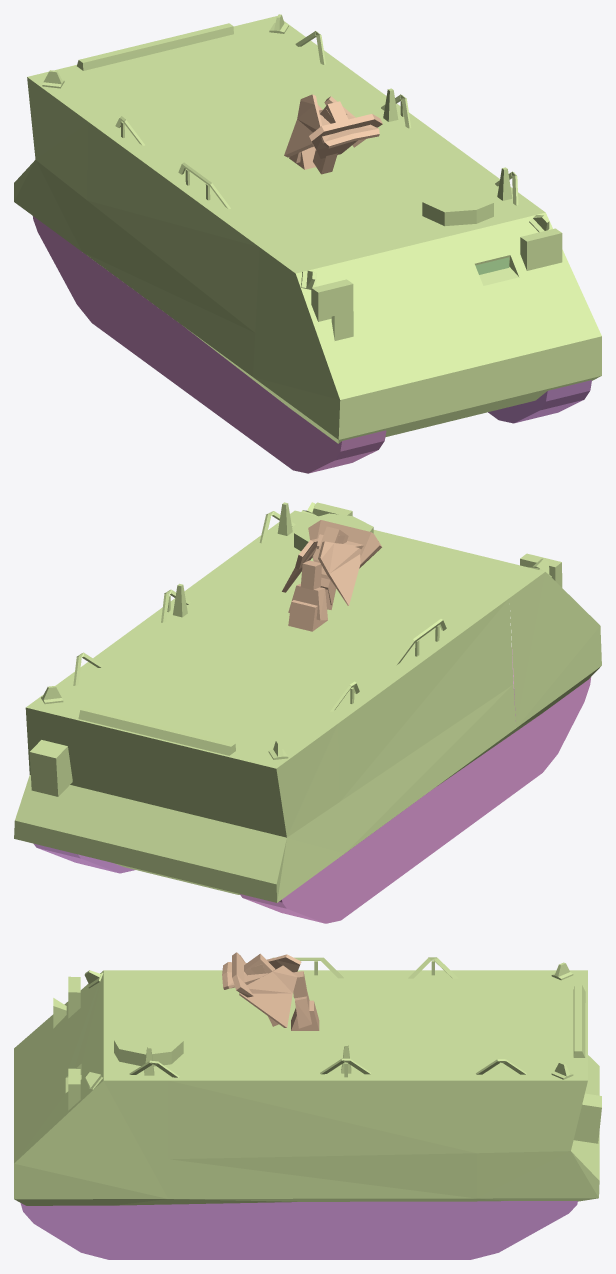
The model's file is land-tracked-leopard-spawn-spw-01.glb.
The picture shows the model from 3 angles, top to bottom: view 1: azimuth 30°, elevation 25°; view 2: azimuth 150°, elevation 25°; view 3: azimuth 270°, elevation 25°; orthographic projection. The views are drawn at different scales.
Visible parts, largest first — view 1: CC_SPW, CC_SPW_01_RotatorCore, CC_SPW_01_Flap_02, CC_SPW_01_Flap_01; view 2: CC_SPW, CC_SPW_01_Flap_02, CC_SPW_01_RotatorCore, CC_SPW_01_Rotator, CC_SPW_01_Base; view 3: CC_SPW, CC_SPW_01_Flap_03, CC_SPW_01_RotatorCore, CC_SPW_01_Rotator, CC_SPW_01_Flap_01, CC_SPW_01_Base.
Boxes of the visible parts, <box> form: CC_SPW: <box>14,14,601,473</box>; CC_SPW_01_RotatorCore: <box>309,101,382,167</box>; CC_SPW_01_Flap_02: <box>284,94,322,157</box>; CC_SPW_01_Flap_01: <box>320,114,379,148</box>; CC_SPW: <box>14,502,601,923</box>; CC_SPW_01_Flap_02: <box>318,541,360,605</box>; CC_SPW_01_RotatorCore: <box>308,520,381,604</box>; CC_SPW_01_Rotator: <box>288,560,327,620</box>; CC_SPW_01_Base: <box>288,600,327,631</box>; CC_SPW: <box>14,957,601,1259</box>; CC_SPW_01_Flap_03: <box>239,965,297,1027</box>; CC_SPW_01_RotatorCore: <box>232,952,275,1021</box>; CC_SPW_01_Rotator: <box>293,971,311,1028</box>; CC_SPW_01_Flap_01: <box>222,962,268,989</box>; CC_SPW_01_Base: <box>291,1000,319,1030</box>.
Bounding box in the file's own units: 3.49 × 3.48 × 7.47.
